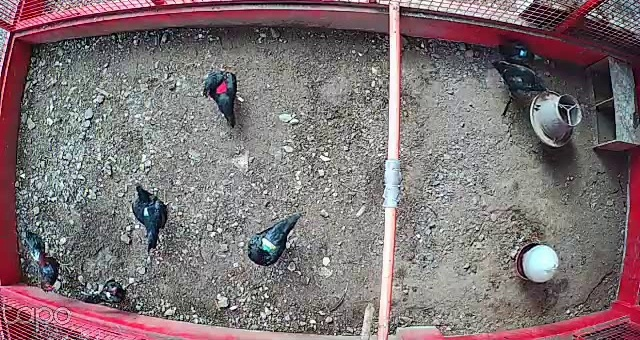Chicken: (246, 208, 301, 267), (131, 183, 173, 260), (487, 58, 559, 101), (203, 66, 245, 133), (494, 36, 553, 70), (84, 276, 131, 306)
Rooster: (21, 228, 76, 299)
Saddle_Color_Blue: (521, 49, 528, 54)
Saddle_Color_Red: (214, 80, 230, 95)
Saddle_Color_YellowGreen: (255, 233, 279, 255)
